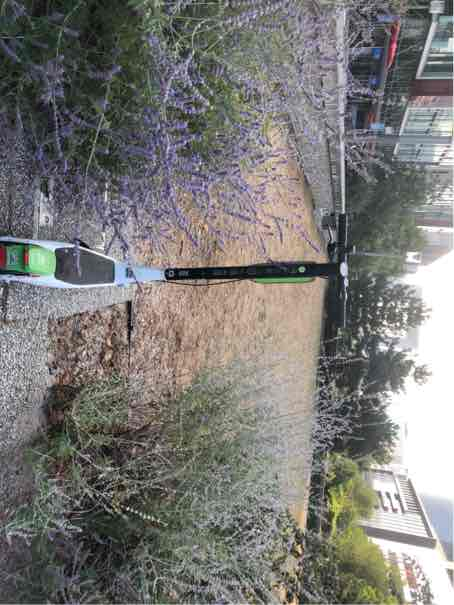scooter: (11, 196, 385, 347)
